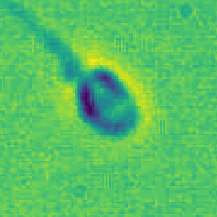normal: (1, 1, 85, 79)
